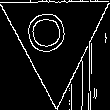O_E: (33, 15, 79, 60)
